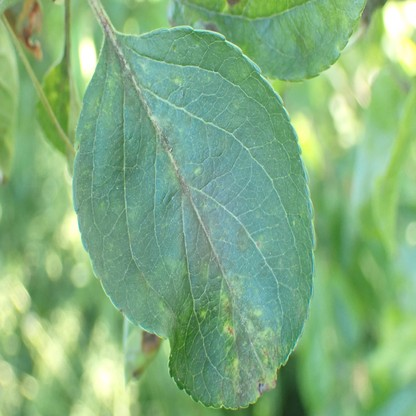scab: (75, 62, 289, 403), (200, 18, 220, 33), (226, 0, 243, 6)
